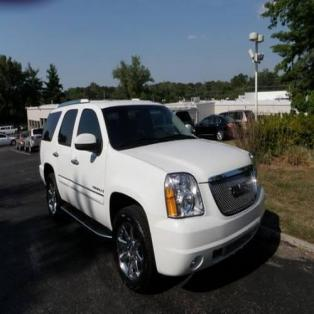Auto: (39, 98, 264, 295)
